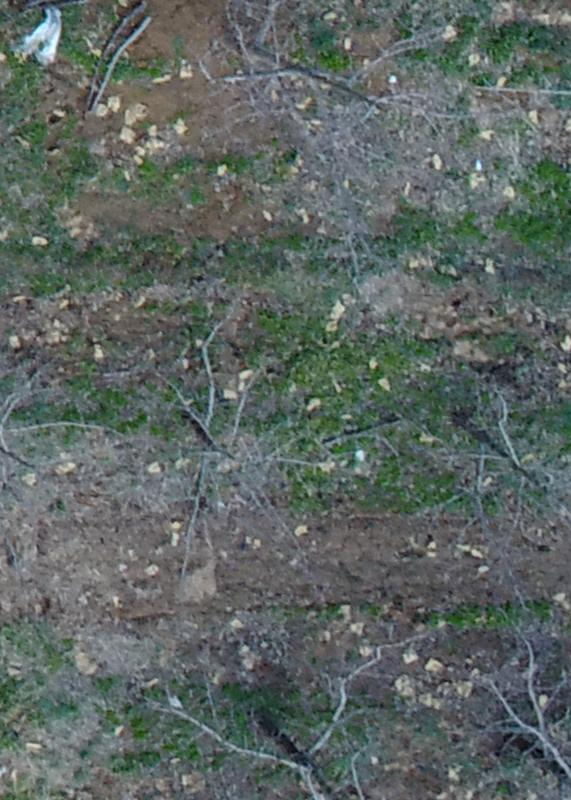apple: (140, 327, 318, 565), (186, 10, 441, 141), (212, 664, 446, 790), (415, 373, 561, 565), (10, 274, 104, 530)
